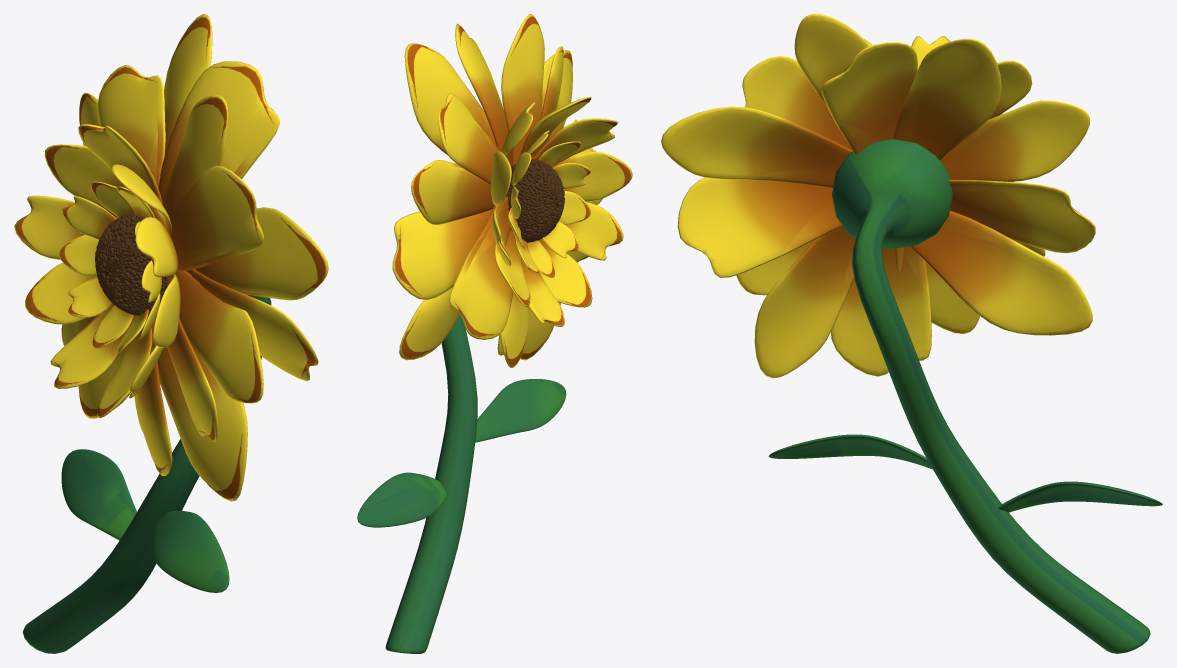
The model's file is girasol3 .fbx.
3 renders of one model, left to right at view 1: azimuth 30°, elevation 25°; view 2: azimuth 150°, elevation 25°; view 3: azimuth 270°, elevation 25°, orthographic. The views are drawn at different scales.
Visible parts, largest first — view 1: Plano.018, Cubo; view 2: Plano.018, Cubo; view 3: Plano.018, Cubo.
Boxes of the visible parts, x1,y1,x2,y2 form: Plano.018: (14,14,328,501); Cubo: (22,295,271,653); Plano.018: (392,14,632,367); Cubo: (357,315,566,653); Plano.018: (661,14,1095,378); Cubo: (768,138,1162,653).
Bounding box in the file's own units: 235 × 819 × 577.
Materials: 5 (5 with a texture image).
